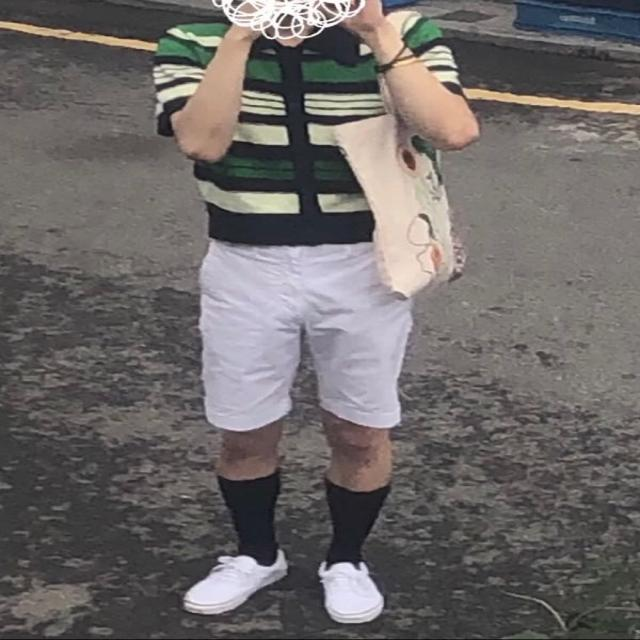cardigan: (149, 9, 464, 249)
shortpants: (198, 236, 422, 432)
